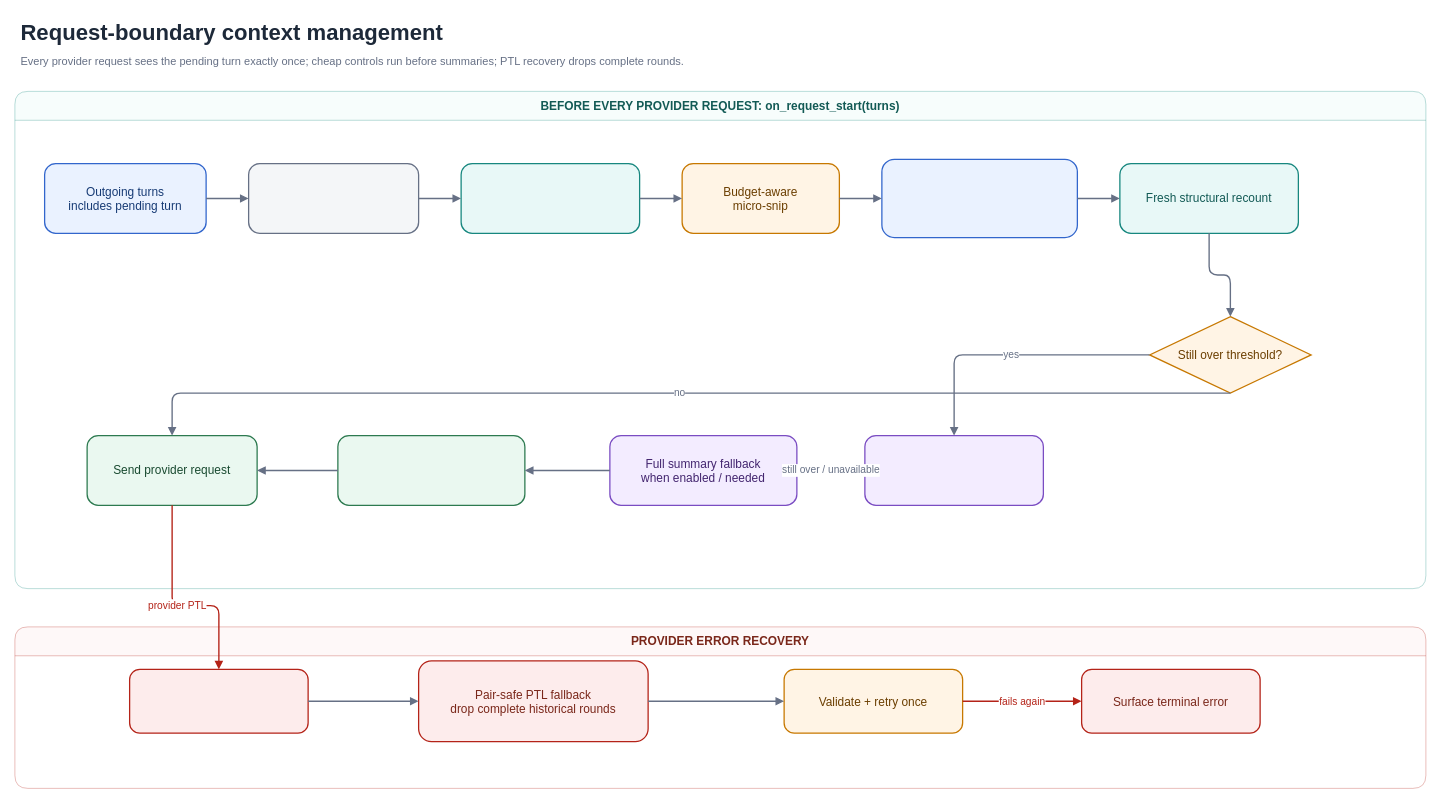
Some shapes in this 1441 by 803 pixel diagram are drawn without their labels. Here are the shapes that lost their labels. From the top down, the centre of each, then its label:
At point 333,198: "Replace large old tool results".
At point 550,198: "Initial token account model-aware threshold".
At point 979,198: "Rebuild persisted history + pending turn once".
At point 431,470: "Pair / structure validation".
At point 954,470: "Incremental summary when eligible".
At point 218,700: "Prompt too long / 413".
